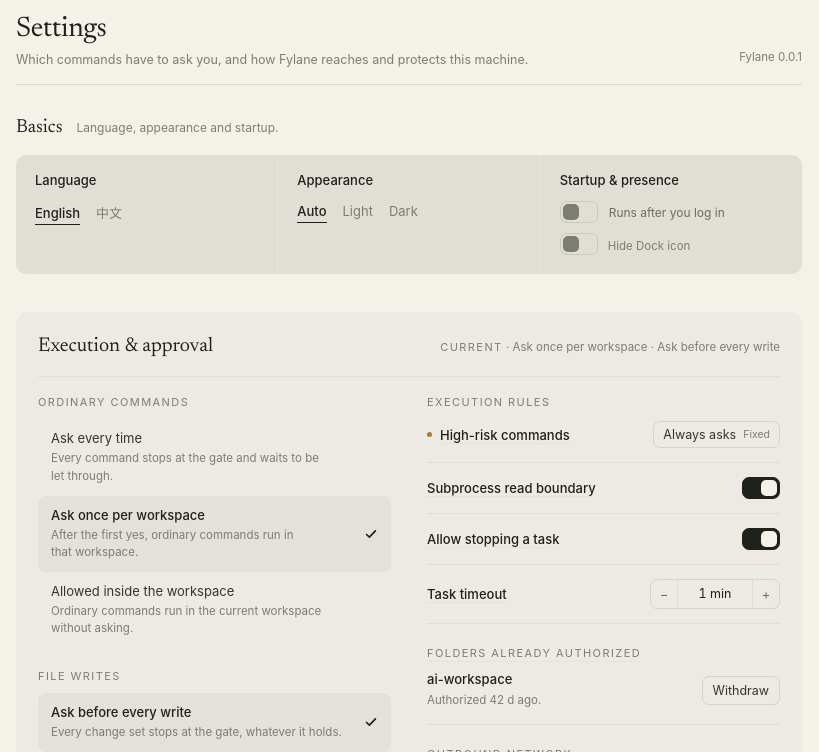
Test: standing workspace grants › names the folder, says how old the authorization is, and withdraws on one press
Click the button "Withdraw" at (741, 690), box [702,676,780,705]
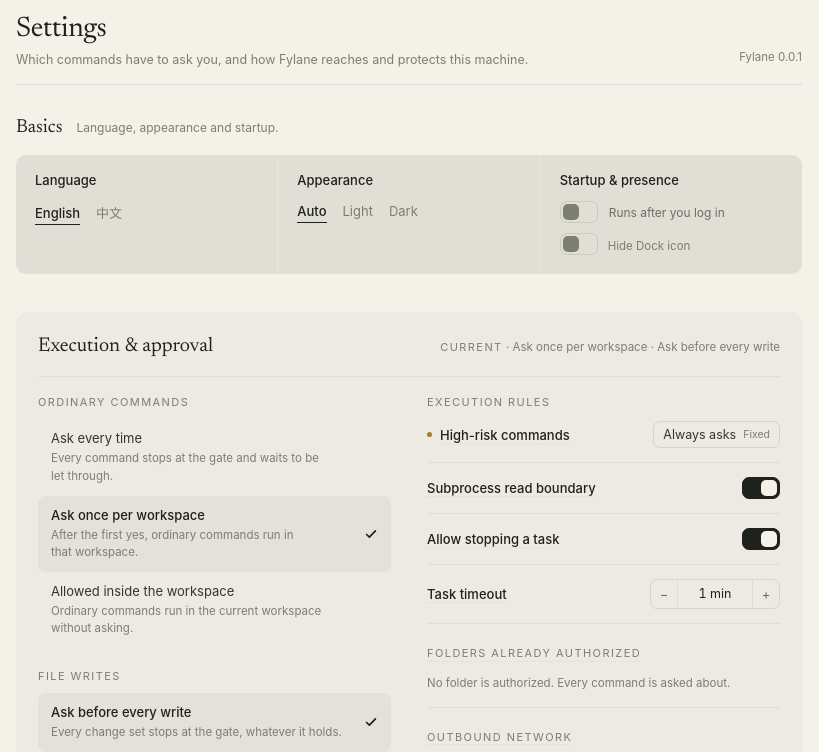
Expected: the text "No folder is authorized" is shown, [427,676,730,690]
